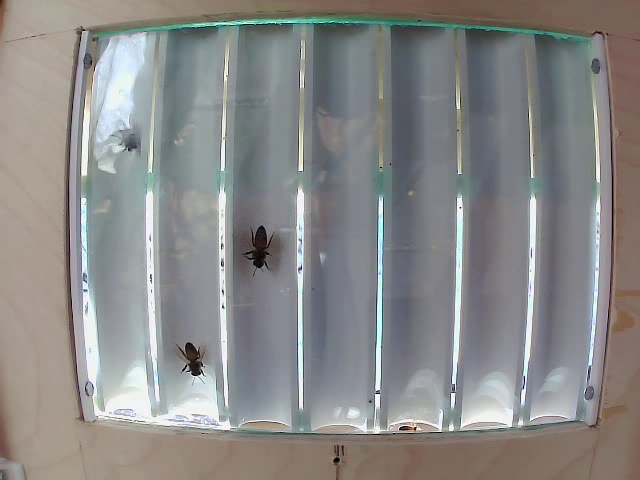bee: (244, 216, 294, 278), (181, 333, 212, 370)
